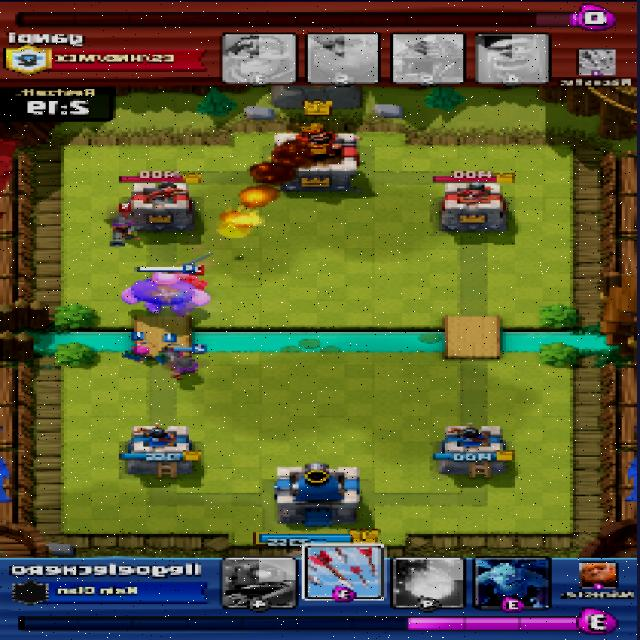Enemy-Fireball: (210, 201, 267, 241)
Enemy-Musketeer: (108, 214, 136, 246)
Player-Archer: (156, 343, 185, 362), (120, 344, 148, 361)
Player-Giant: (121, 272, 210, 314)
Player-Musketeer: (168, 351, 198, 376)
